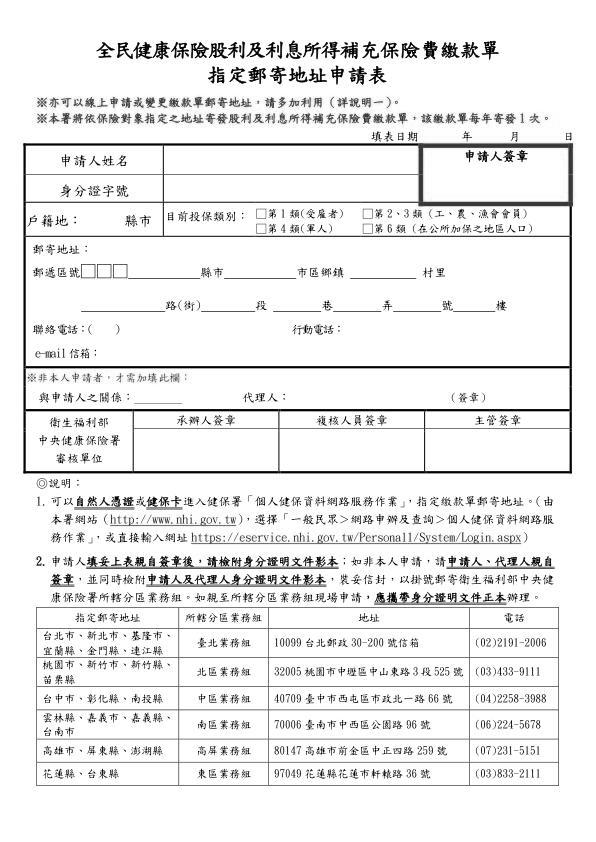table: (21, 140, 575, 475), (30, 603, 562, 792)
text: (33, 494, 559, 547), (28, 554, 559, 603), (30, 94, 552, 127), (94, 36, 500, 62), (204, 62, 388, 87), (366, 126, 420, 141), (33, 475, 82, 491), (559, 128, 578, 143), (452, 127, 473, 140), (506, 127, 524, 142)
